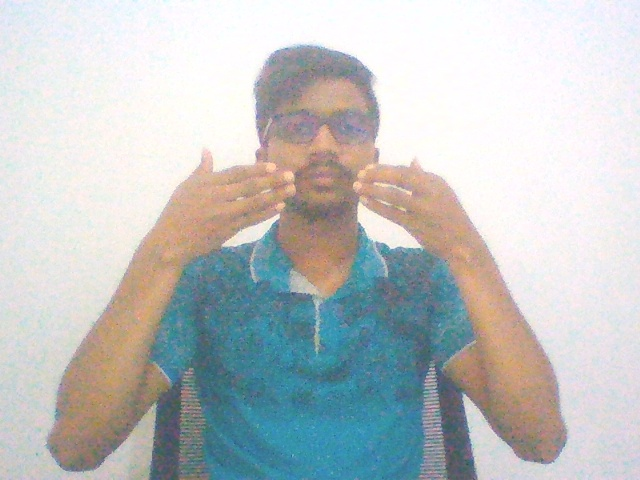cat: (129, 134, 503, 269)
